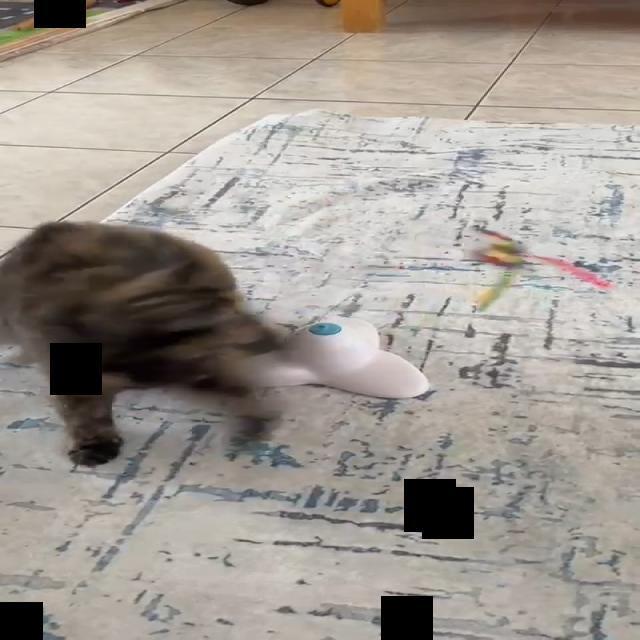authorized: (0, 219, 431, 467)
